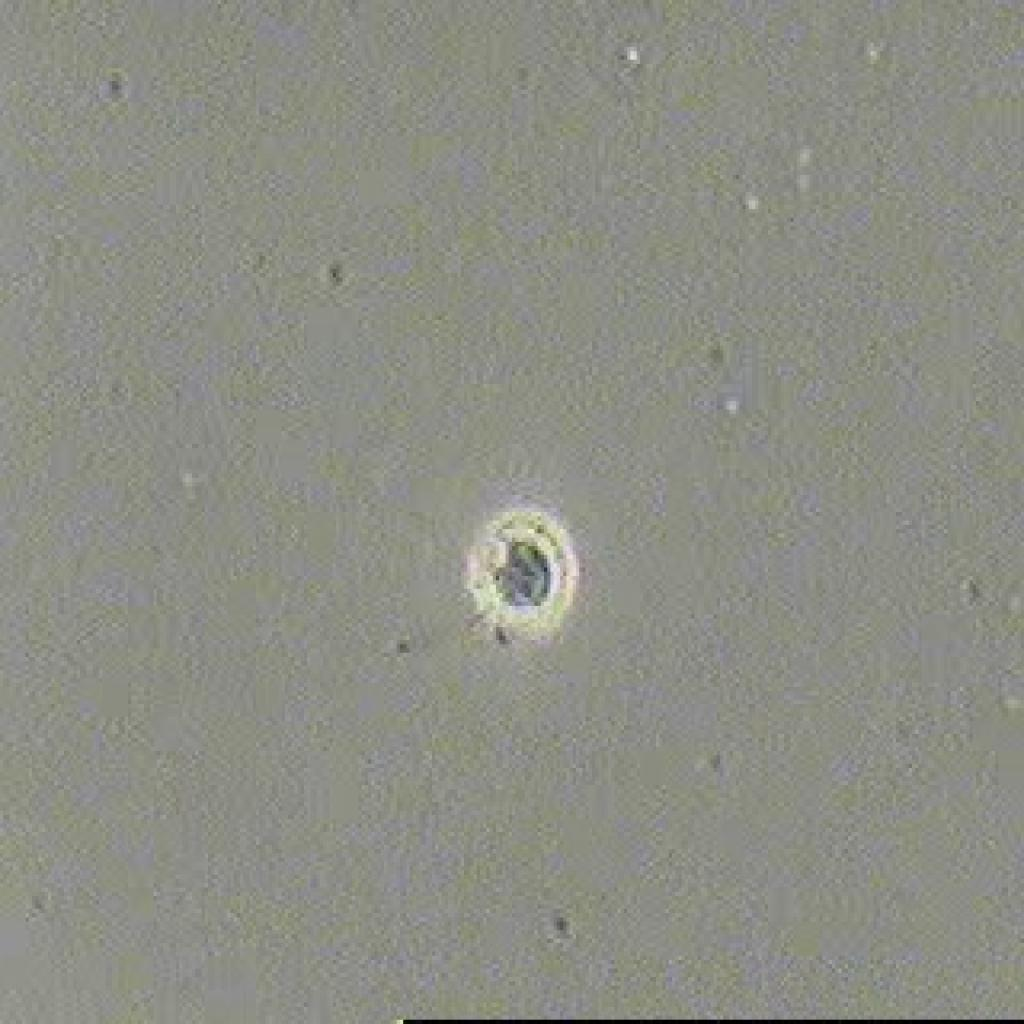Flagellates: (438, 491, 586, 661)
